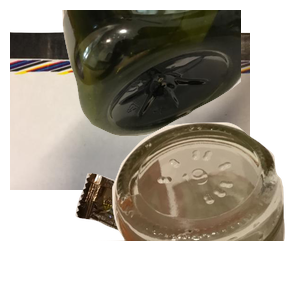cardboard: (10, 29, 250, 209)
glass: (89, 120, 300, 300)
plastic: (60, 10, 300, 139)
trash: (73, 171, 242, 300)
